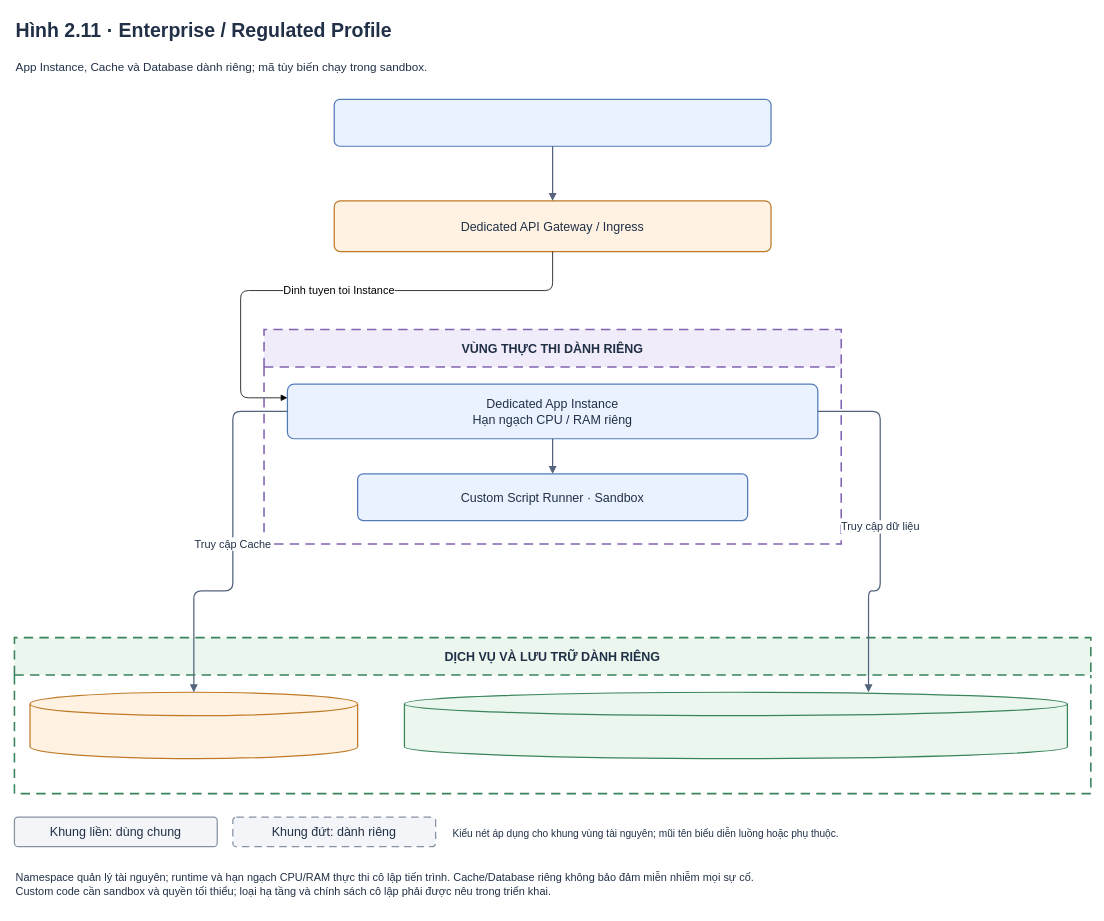
Image size: 1104x921. Some labels were removed from this diagram. Here are the shapes that lost their labels. From the top down, the centre of each, then its label:
At pixel 552 122: "Enterprise Client Request".
At pixel 193 725: "Dedicated Cache A".
At pixel 735 725: "Dedicated Database A Mã hóa bằng khóa khách hàng quản lý".
